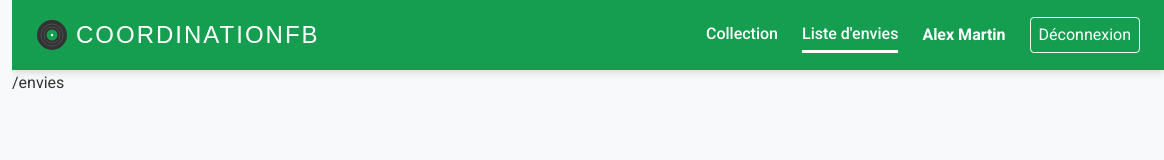
Test: EnTete › affiche le nom et déconnecte l’utilisateur
Expected: the text "Alex Martin" is shown, [922,22,1006,48]
Click the button "Déconnexion". click: (1085, 35)
box: [1030,17,1140,53]
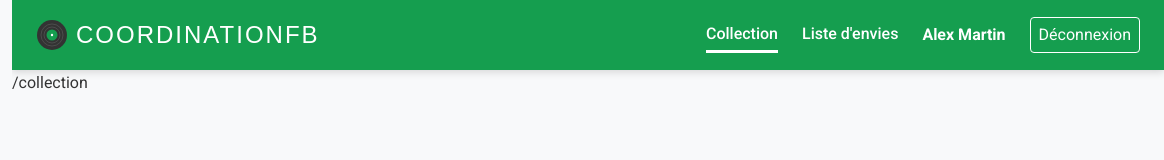
Expected: the text "/collection" is shown, [12,73,88,92]
